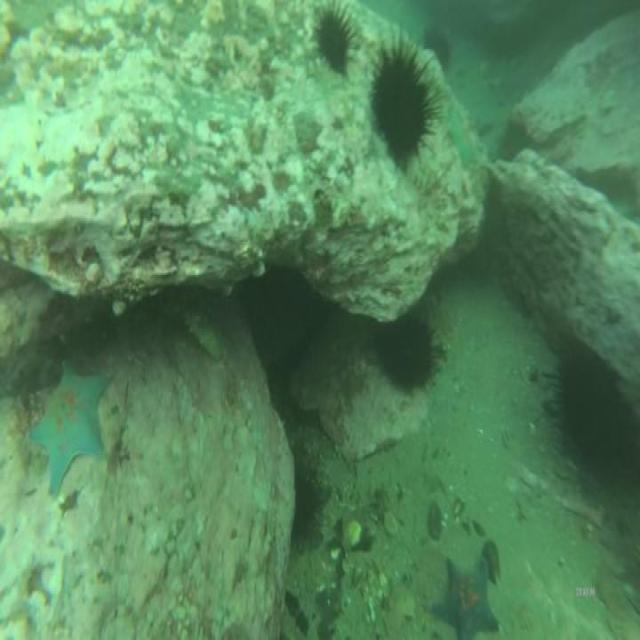echinus: (541, 321, 640, 499), (369, 38, 432, 177), (376, 300, 436, 398), (287, 462, 336, 556), (313, 5, 359, 80)
holothurian: (176, 297, 231, 364)
starfish: (24, 356, 119, 504), (428, 548, 501, 640), (442, 100, 482, 170)
